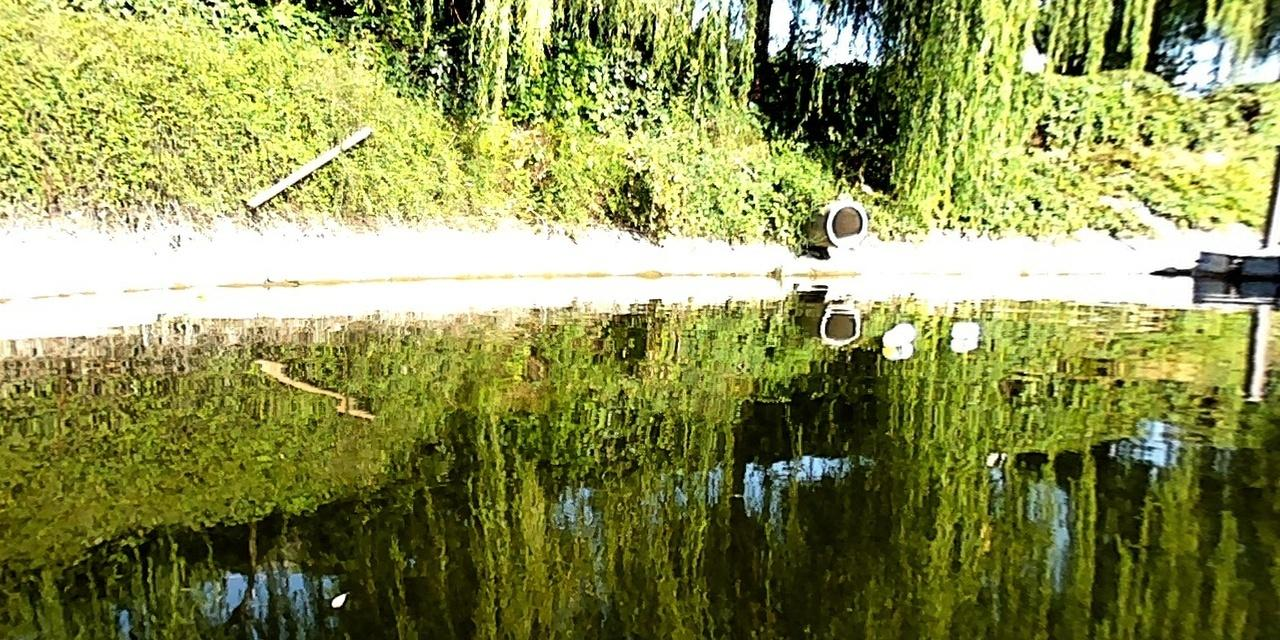bottle: (881, 321, 916, 344), (951, 319, 979, 337)
